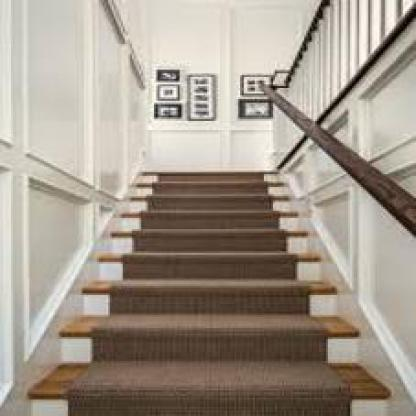stair_up: (44, 260, 390, 412)
